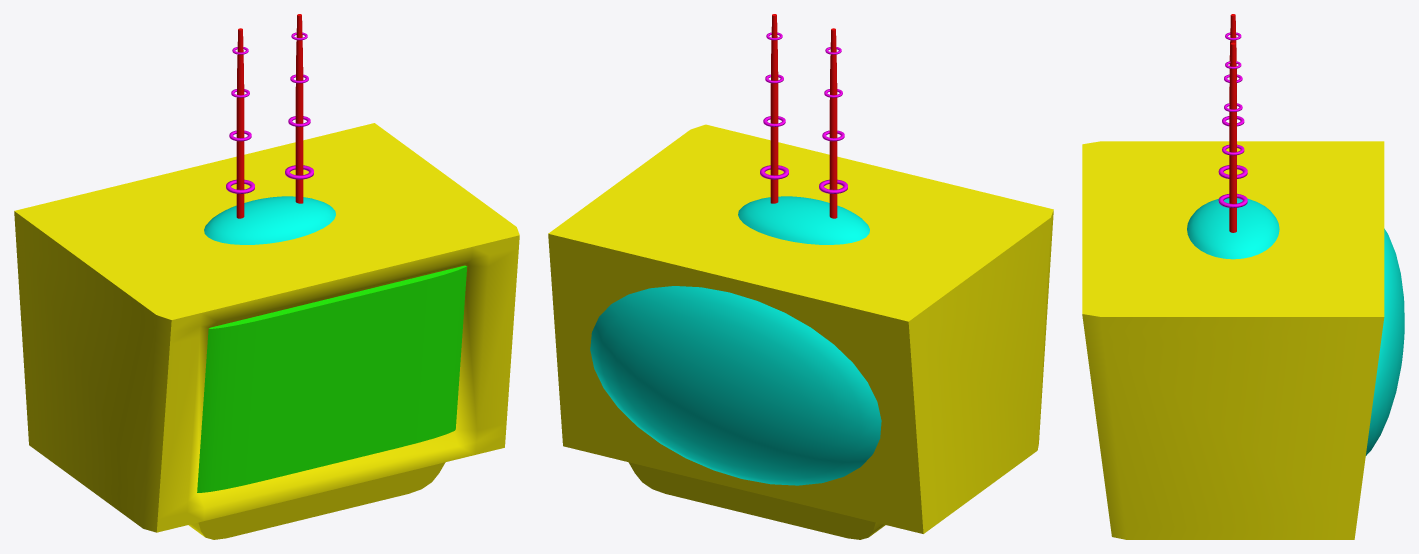
Rendered from umgebung_fernseher_low.FBX.
The picture shows the model from 3 angles, left to right: view 1: azimuth 30°, elevation 25°; view 2: azimuth 150°, elevation 25°; view 3: azimuth 270°, elevation 25°; orthographic projection.
Parts seen in each view (by area): view 1: o_fernseherrahmen_low, o_bildschirm_low, o_antennenfuss_low, o_antenne_low, i_antenne_low; view 2: o_fernseherrahmen_low, o_fernseherruecken_low, o_antennenfuss_low, o_antenne_low, i_antenne_low; view 3: o_fernseherrahmen_low, o_antennenfuss_low, o_fernseherruecken_low, i_antenne_low.
Part boxes in pixels (x1=…): o_fernseherrahmen_low: x1=14, y1=123, x2=519, y2=539; o_bildschirm_low: x1=197, y1=265, x2=467, y2=492; o_antennenfuss_low: x1=204, y1=196, x2=335, y2=244; o_antenne_low: x1=236, y1=28, x2=244, y2=218; i_antenne_low: x1=295, y1=14, x2=303, y2=203; o_fernseherrahmen_low: x1=548, y1=124, x2=1053, y2=539; o_fernseherruecken_low: x1=590, y1=286, x2=881, y2=485; o_antennenfuss_low: x1=738, y1=196, x2=869, y2=244; o_antenne_low: x1=829, y1=28, x2=837, y2=218; i_antenne_low: x1=770, y1=14, x2=778, y2=203; o_fernseherrahmen_low: x1=1082, y1=141, x2=1384, y2=539; o_antennenfuss_low: x1=1187, y1=198, x2=1279, y2=259; o_fernseherruecken_low: x1=1366, y1=228, x2=1404, y2=455; i_antenne_low: x1=1229, y1=42, x2=1236, y2=232.
Bounding box in the file's own units: 1.63 × 1.98 × 1.26.
